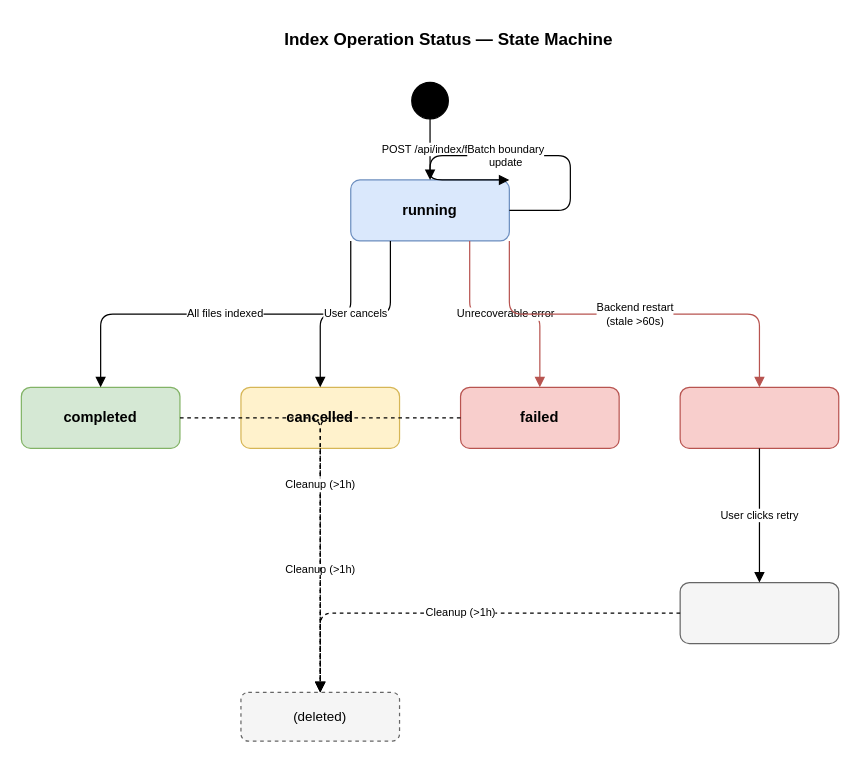
Some shapes in this 860 by 763 pixel diagram are drawn without their labels. Each missing label, with the centre of its shape:
interrupted: [759,417]
superseded: [759,612]
